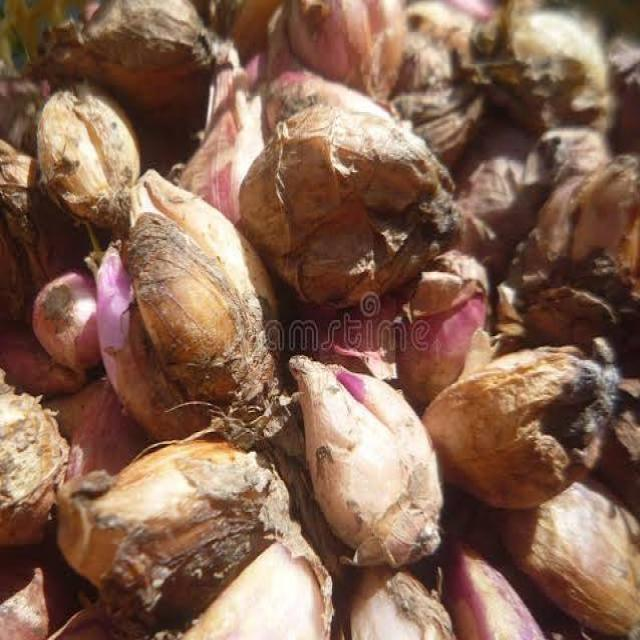rotten: (182, 399, 318, 605), (507, 334, 636, 468), (92, 149, 210, 295)
